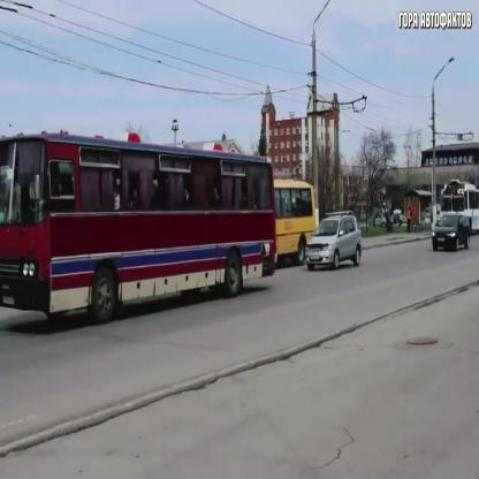bus: (0, 126, 276, 331), (274, 179, 317, 269)
car: (305, 210, 365, 274), (427, 214, 474, 255)
